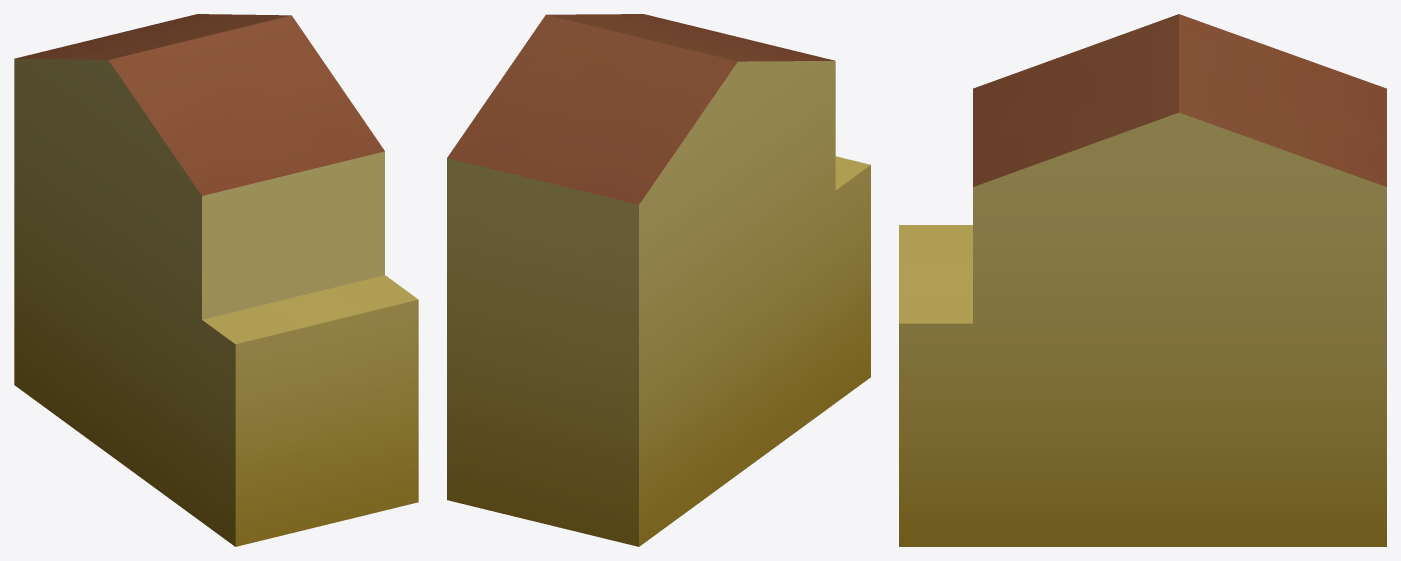
Rendered from SM_CityVistaBuilding_03.fbx.
3 renders of one model, left to right at view 1: azimuth 30°, elevation 25°; view 2: azimuth 150°, elevation 25°; view 3: azimuth 270°, elevation 25°, orthographic. The views are drawn at different scales.
Visible parts, largest first — view 1: SM_CityVistaBuilding_03; view 2: SM_CityVistaBuilding_03; view 3: SM_CityVistaBuilding_03.
Part boxes in pixels (box(x1,y1,x2,y2)): SM_CityVistaBuilding_03: box(14, 14, 418, 546); SM_CityVistaBuilding_03: box(447, 14, 870, 546); SM_CityVistaBuilding_03: box(899, 14, 1386, 546).
Bounding box in the file's own units: 5.6 × 11.51 × 11.71.
